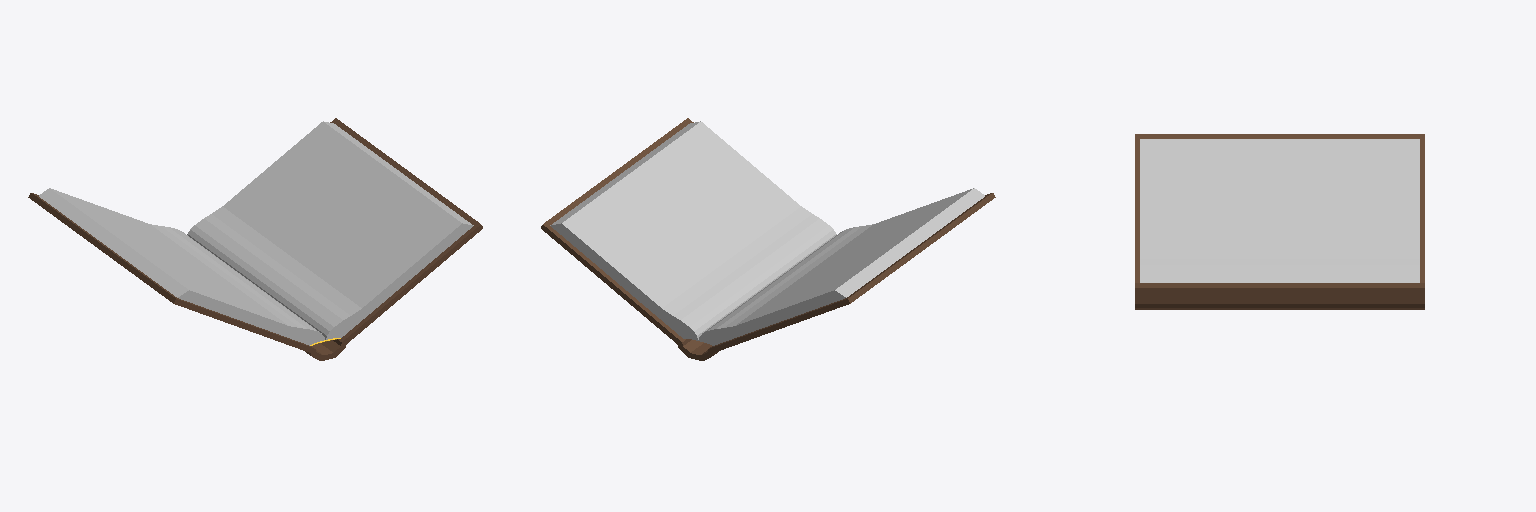
Rendered from book30.obj.
The picture shows the model from 3 angles: view 1: azimuth 30°, elevation 25°; view 2: azimuth 150°, elevation 25°; view 3: azimuth 270°, elevation 25°; orthographic projection.
Visible parts, largest first — view 1: Cover_O; view 2: Cover_O; view 3: Cover_O.
Boxes of the visible parts, x1,y1,x2,y2 form: Cover_O: [28, 118, 482, 360]; Cover_O: [541, 118, 995, 360]; Cover_O: [1135, 134, 1424, 309].
Bounding box in the file's own units: 123 × 38.19 × 100.